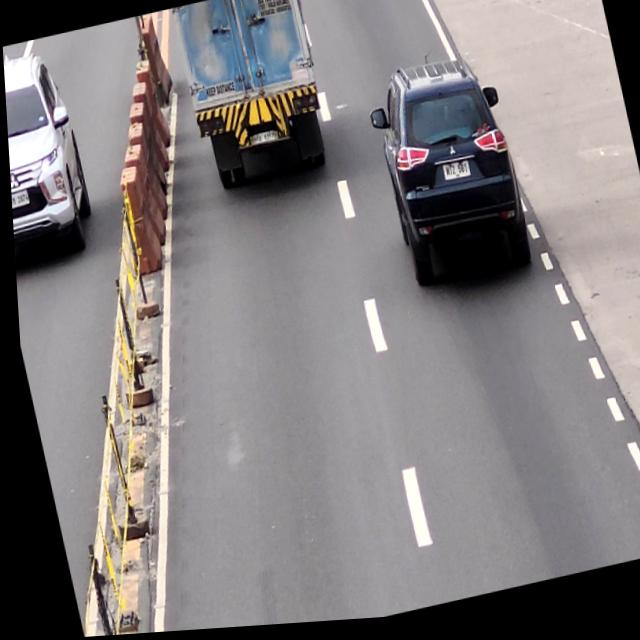Car: (361, 53, 534, 305)
License-Plate: (439, 163, 468, 186), (249, 132, 276, 149)
Truck: (168, 0, 339, 198)
